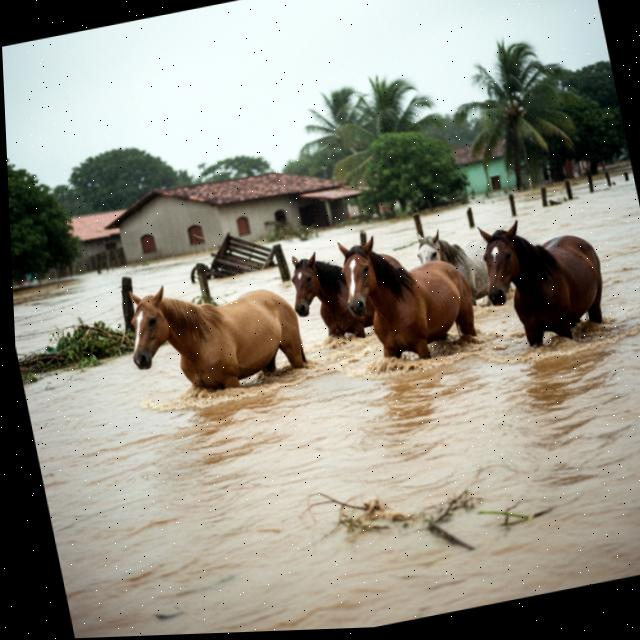horse: (118, 250, 321, 418), (466, 192, 626, 366), (327, 217, 487, 378), (409, 209, 527, 327), (279, 233, 385, 358)
